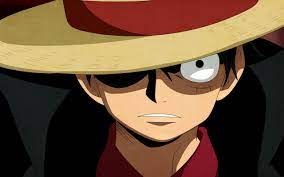Luffy: (64, 2, 247, 142)
